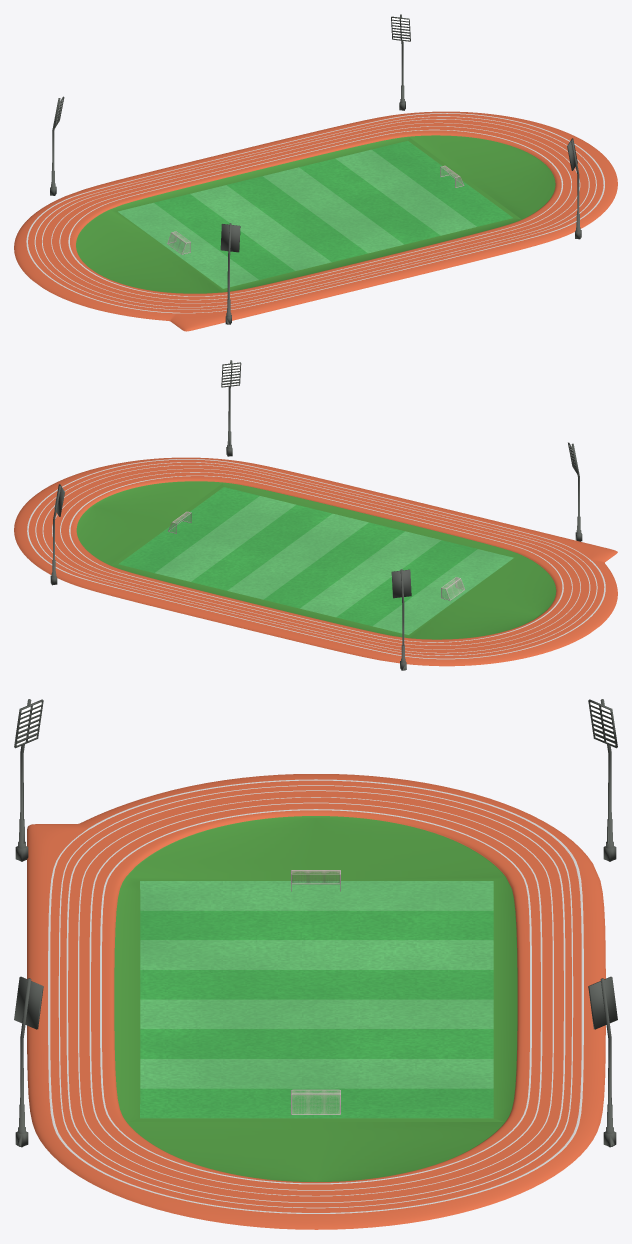
The model's file is runtrack.glb.
3 renders of one model, top to bottom at view 1: azimuth 30°, elevation 25°; view 2: azimuth 150°, elevation 25°; view 3: azimuth 270°, elevation 25°, orthographic. The views are drawn at different scales.
Visible parts, largest first — view 1: Running_Track, Track Lines, Fled Lights, Goal_Post; view 2: Running_Track, Track Lines, Fled Lights, Goal_Post; view 3: Running_Track, Track Lines, Fled Lights, Goal_Post.
Part boxes in pixels (bbox=[...]): Running_Track: bbox=[14, 111, 617, 331]; Track Lines: bbox=[26, 113, 604, 313]; Fled Lights: bbox=[50, 14, 581, 324]; Goal_Post: bbox=[167, 165, 464, 254]; Running_Track: bbox=[14, 457, 617, 666]; Track Lines: bbox=[27, 459, 605, 659]; Fled Lights: bbox=[50, 360, 582, 670]; Goal_Post: bbox=[168, 511, 464, 600]; Running_Track: bbox=[27, 774, 605, 1229]; Track Lines: bbox=[48, 779, 583, 1213]; Fled Lights: bbox=[14, 699, 617, 1147]; Goal_Post: bbox=[291, 870, 340, 1114].
Bounding box in the file's own units: 41.17 × 6.9 × 23.07.
8 materials, 2 textured.
